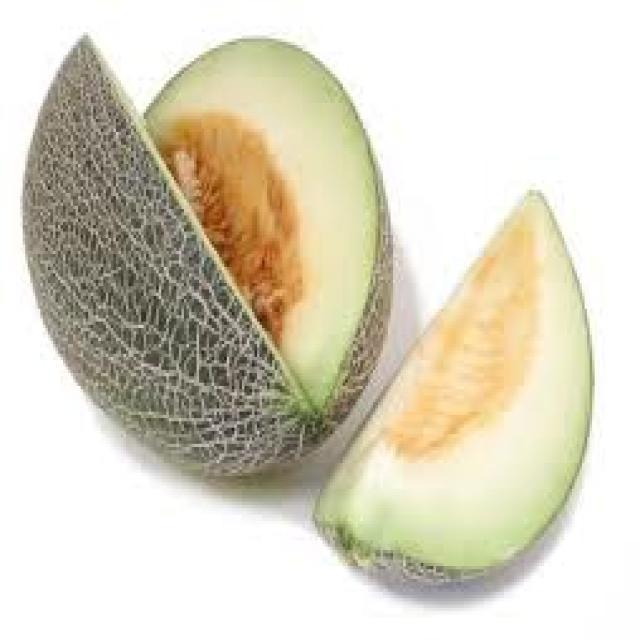Melon: (332, 154, 614, 602)
